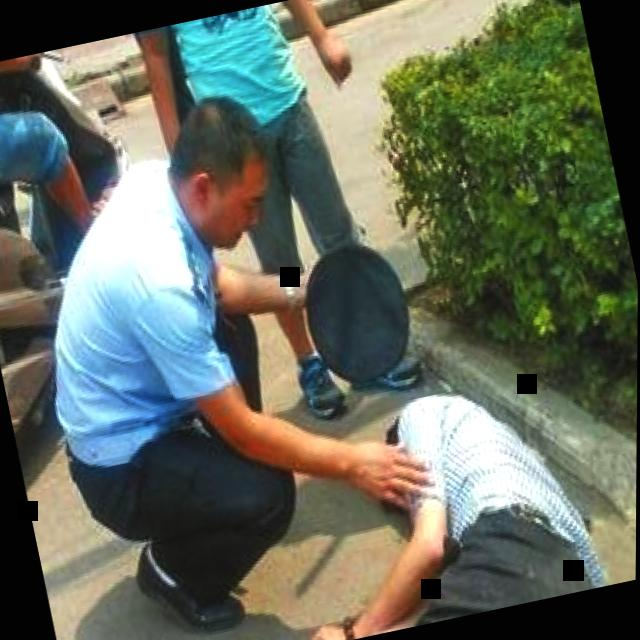Fall-Detected: (234, 335, 614, 640)
